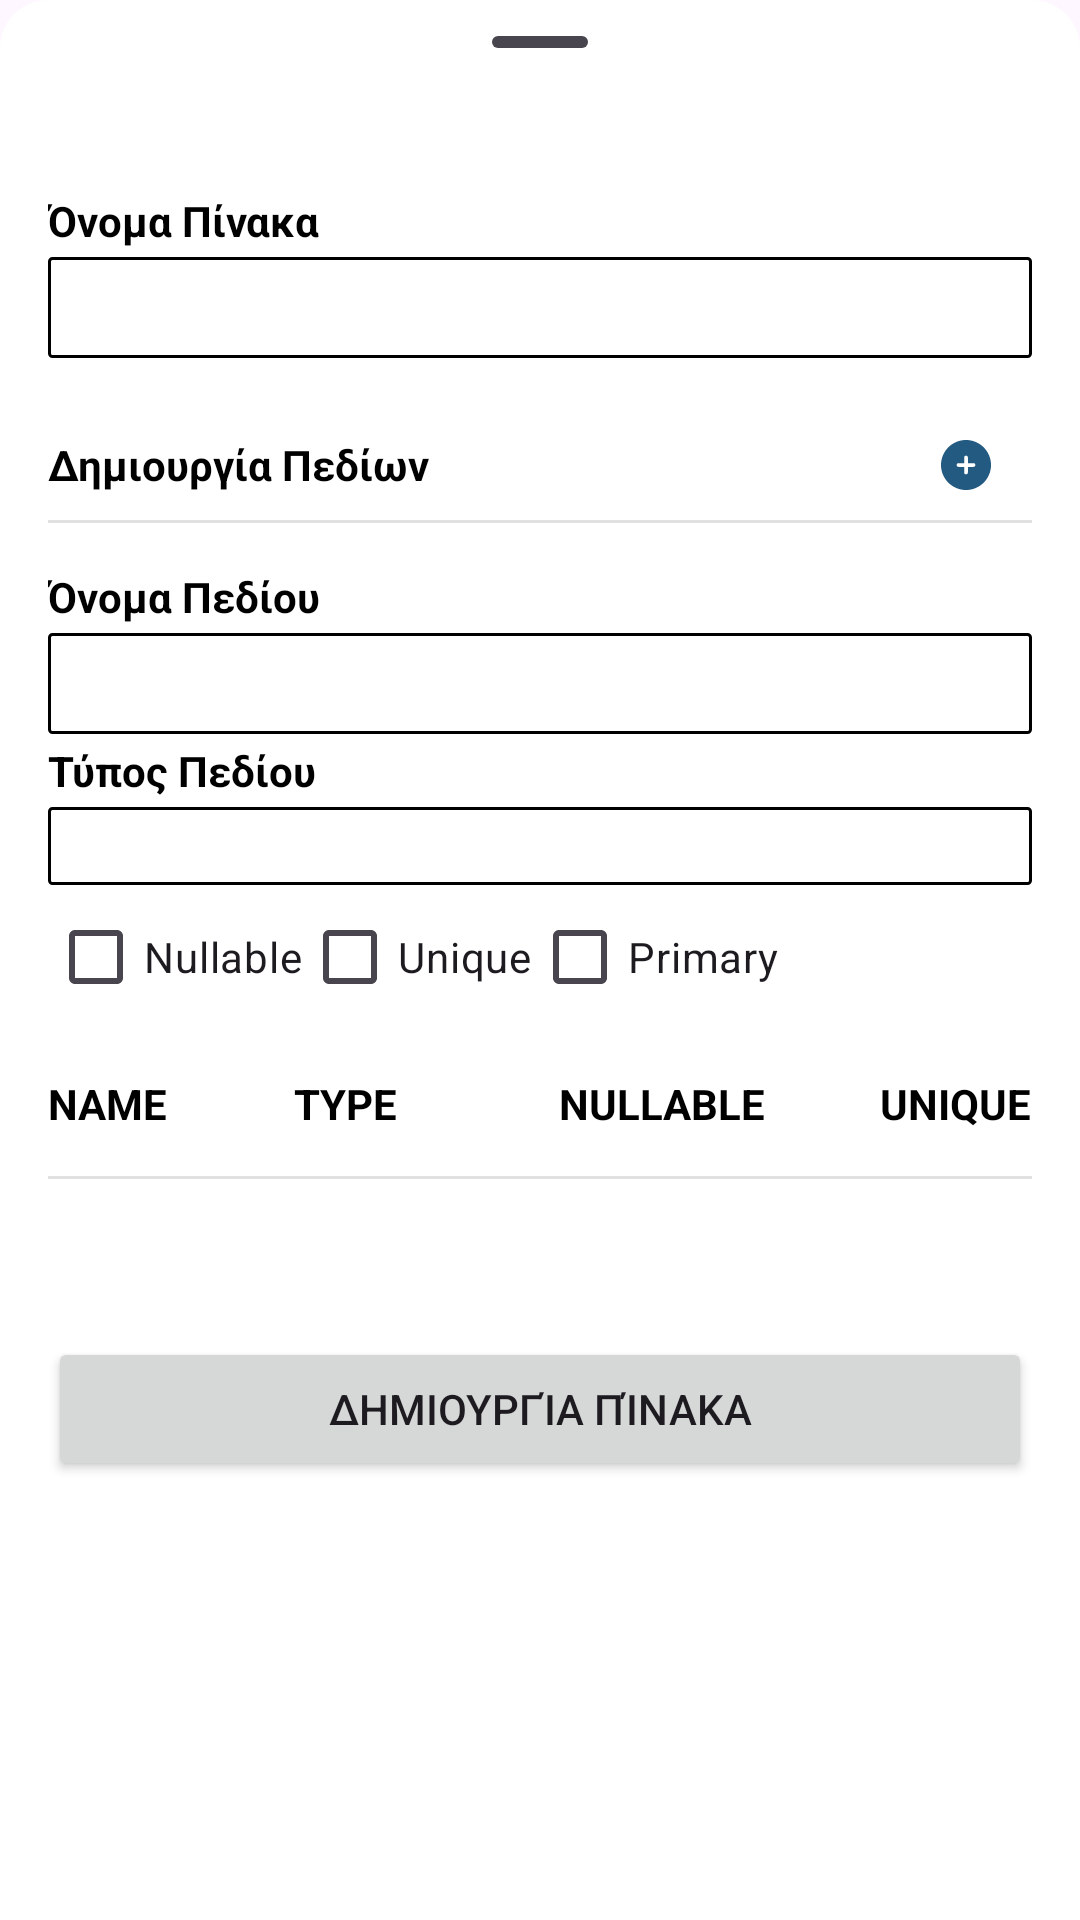

Icons on this 1080 × 1920 Android screen, each with the point to tap as point (x, y):
add circle: point (966, 465)
